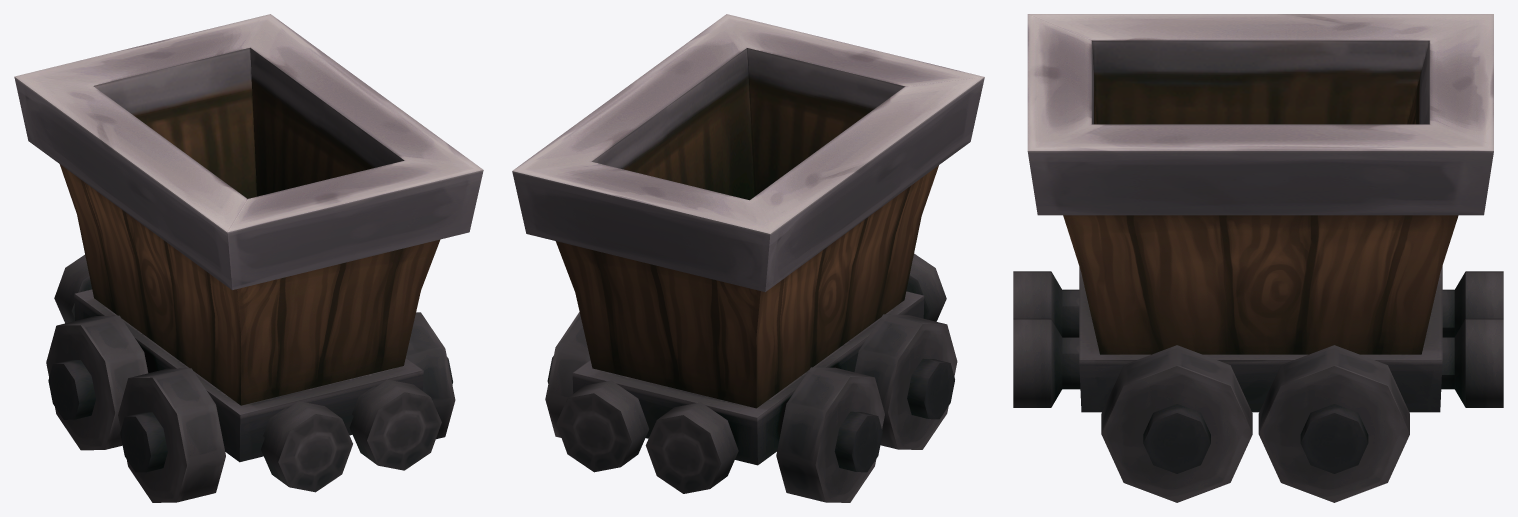
The model's file is Mine_cart.FBX.
3 renders of one model, left to right at view 1: azimuth 30°, elevation 25°; view 2: azimuth 150°, elevation 25°; view 3: azimuth 270°, elevation 25°, orthographic. The views are drawn at different scales.
Parts seen in each view (by area): view 1: Mine_cart; view 2: Mine_cart; view 3: Mine_cart.
Boxes of the visible parts, box(x1,y1,x2,y2) form: Mine_cart: box(14, 14, 483, 502); Mine_cart: box(512, 14, 984, 502); Mine_cart: box(1013, 14, 1503, 502).
Size of the model in its own units: 249 by 320 by 251.
